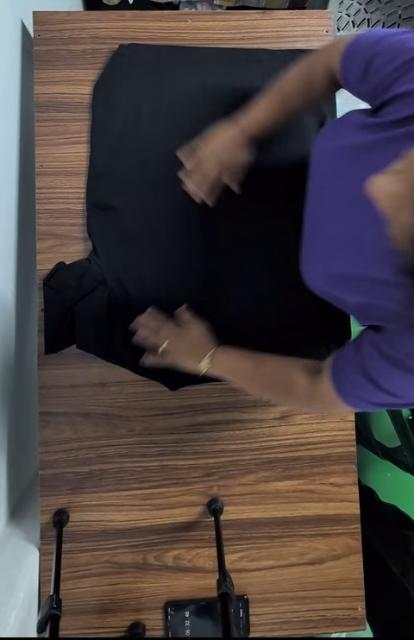new-garment: (44, 44, 347, 390)
